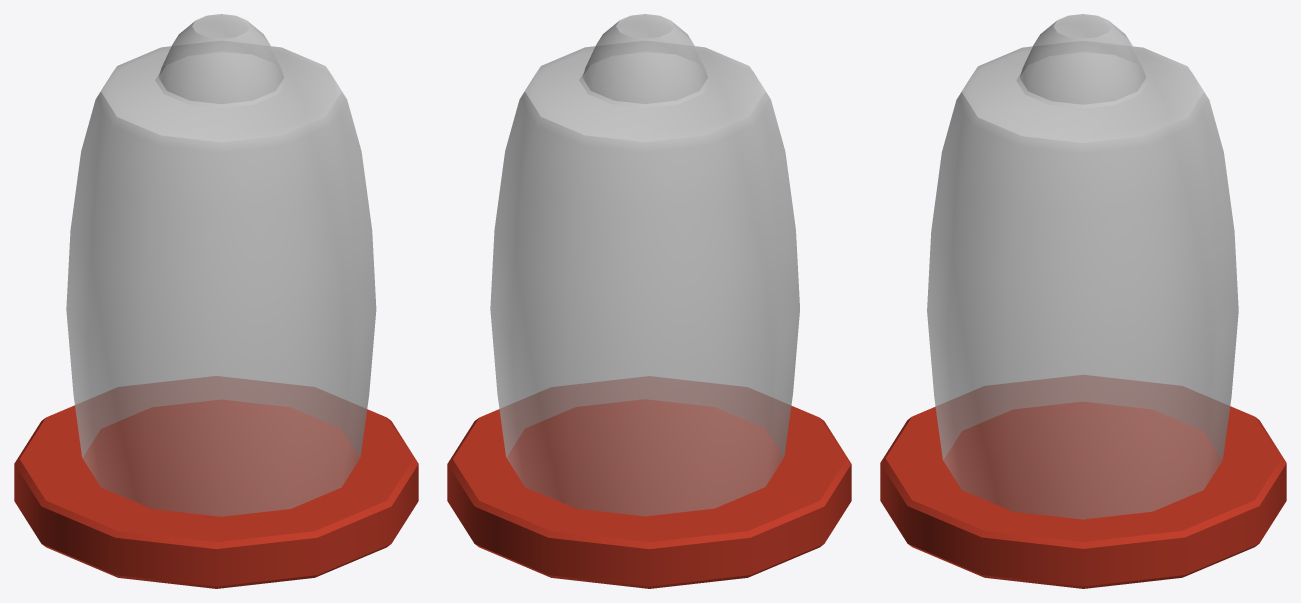
The model's file is prezervatif_big_2.fbx.
3 renders of one model, left to right at view 1: azimuth 30°, elevation 25°; view 2: azimuth 150°, elevation 25°; view 3: azimuth 270°, elevation 25°, orthographic.
Parts seen in each view (by area): view 1: pCylinder8, pCylinder9; view 2: pCylinder8, pCylinder9; view 3: pCylinder8, pCylinder9.
Boxes of the visible parts, left/top/right/bottom form: pCylinder8: left=66, top=14, right=376, bottom=516; pCylinder9: left=14, top=376, right=418, bottom=588; pCylinder8: left=490, top=14, right=799, bottom=516; pCylinder9: left=447, top=376, right=851, bottom=588; pCylinder8: left=927, top=14, right=1238, bottom=519; pCylinder9: left=880, top=375, right=1286, bottom=588.
Size of the model in its own units: 2.13 by 2.13 by 2.78.
